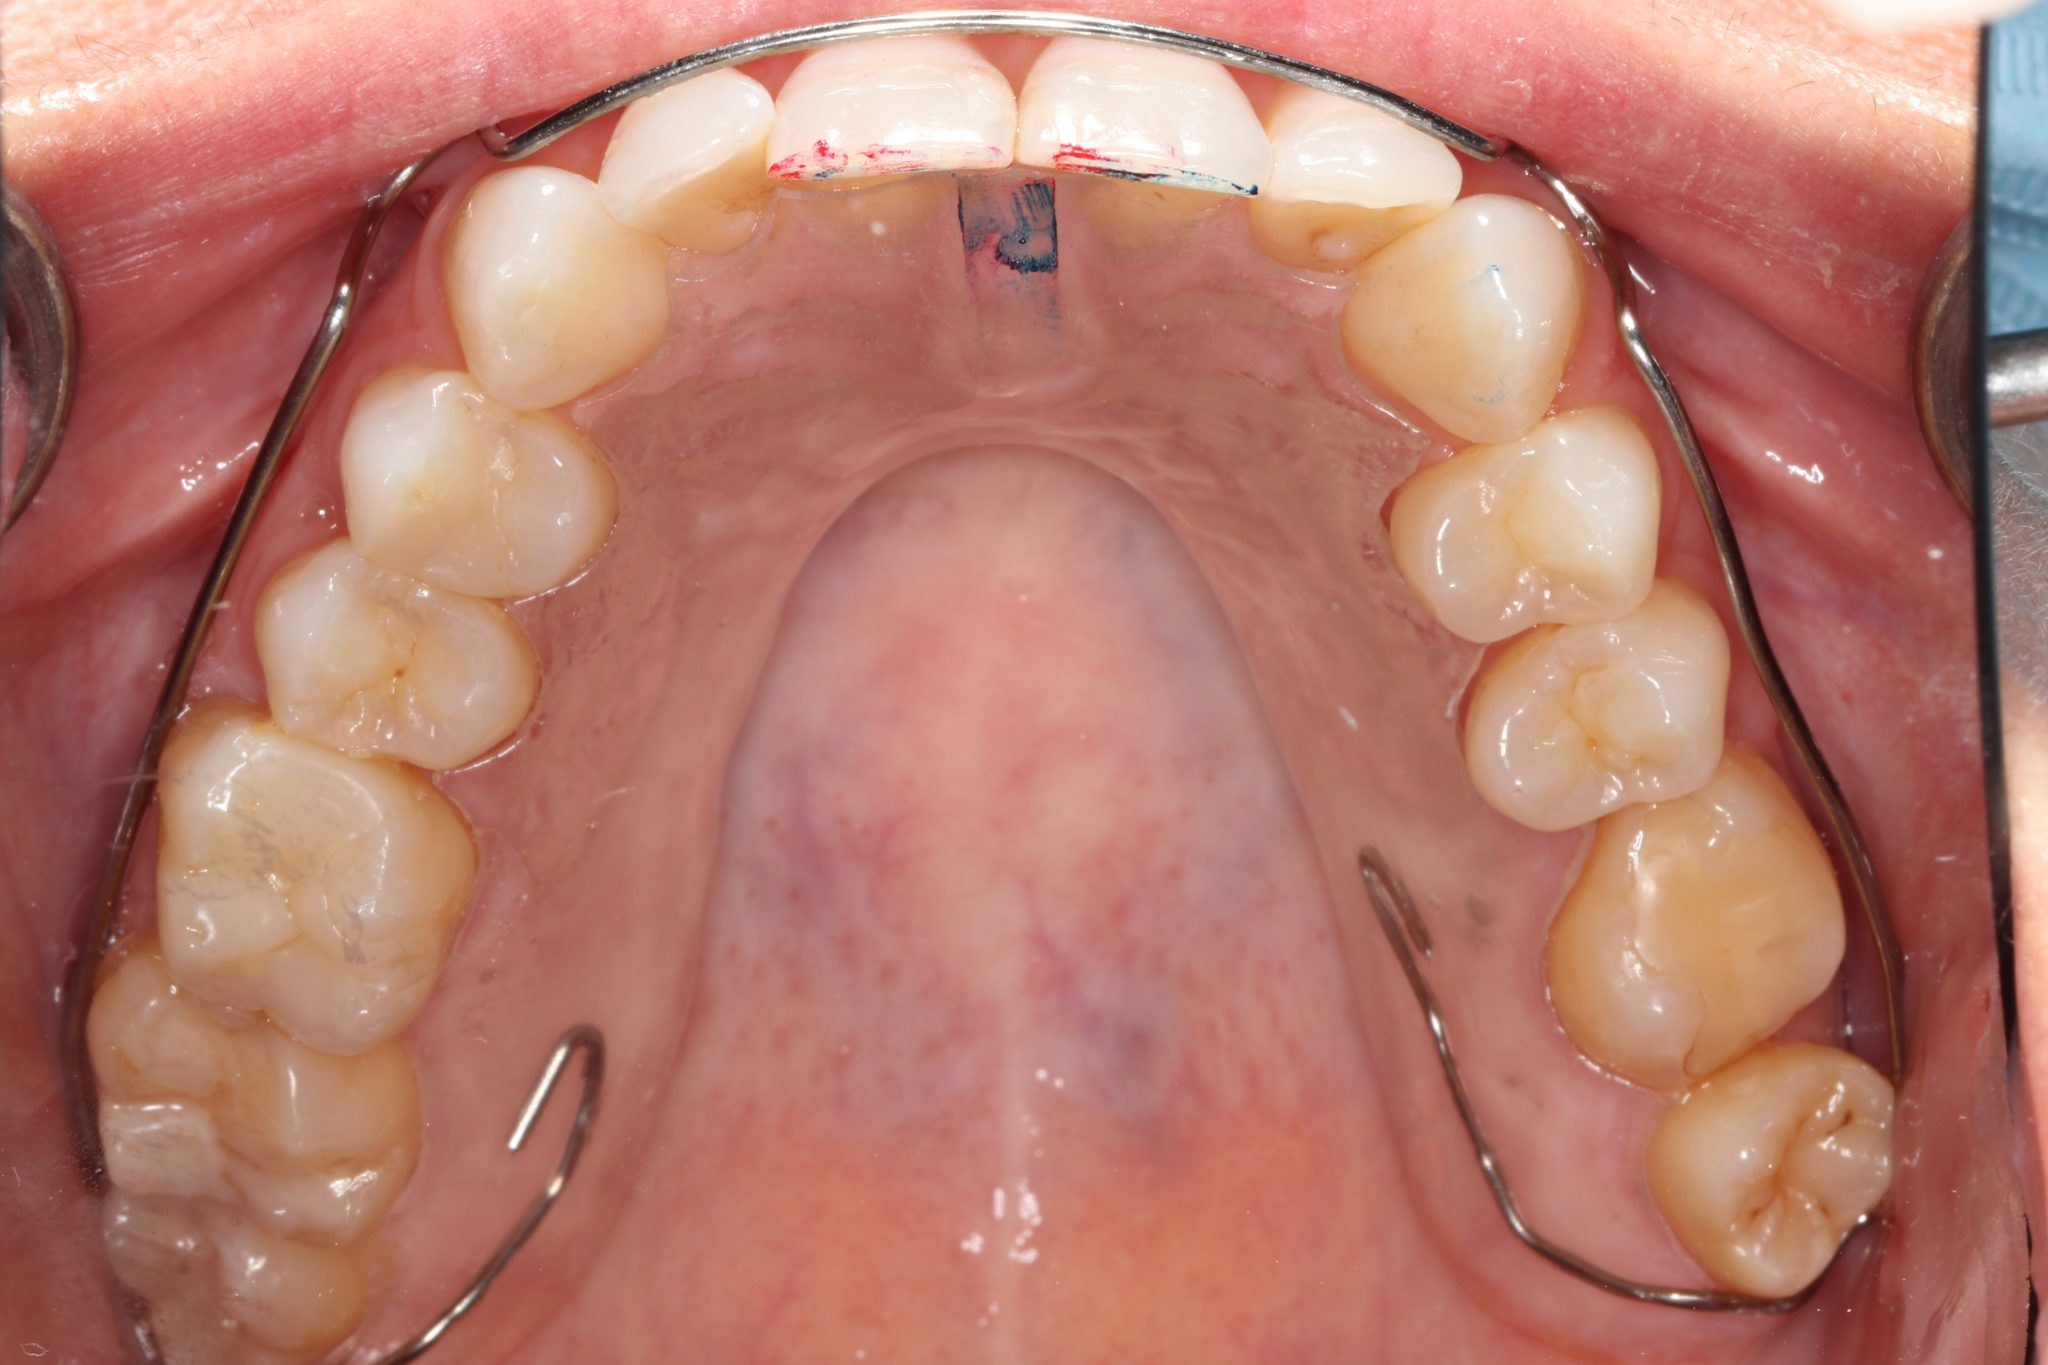UL1BC_healthy: (1393, 427, 1649, 644)
UL1M_healthy: (1549, 798, 1798, 1089)
UL2BC_healthy: (1442, 609, 1718, 830)
UL2M_decay: (1643, 1028, 1820, 1280)
ULCI_decay: (1023, 76, 1249, 207)
ULC_healthy: (1335, 225, 1561, 448)
ULLI_healthy: (1258, 151, 1437, 254)
UR1BC_healthy: (343, 378, 617, 602)
UR1M_healthy: (163, 736, 478, 1057)
UR2BC_healthy: (273, 551, 554, 769)
UR2M_healthy: (107, 963, 426, 1222)
URCI_decay: (766, 30, 1023, 207)
URC_healthy: (442, 158, 670, 414)
URLI_healthy: (605, 114, 775, 239)
